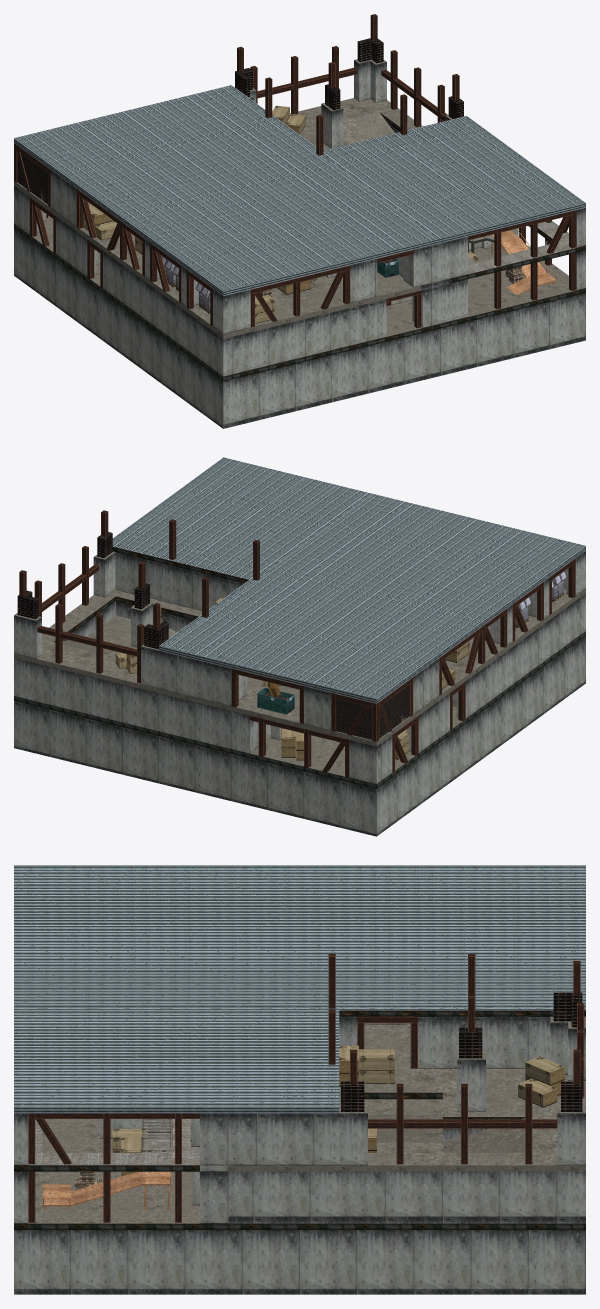
Rendered from cs16_vertigo.glb.
The picture shows the model from 3 angles, top to bottom: view 1: azimuth 30°, elevation 25°; view 2: azimuth 150°, elevation 25°; view 3: azimuth 270°, elevation 25°; orthographic projection. The views are drawn at different scales.
Visible parts, largest first — view 1: Vertigo; view 2: Vertigo; view 3: Vertigo.
Boxes of the visible parts, x1=… form: Vertigo: x1=14, y1=14, x2=585, y2=428; Vertigo: x1=14, y1=457, x2=585, y2=836; Vertigo: x1=14, y1=865, x2=585, y2=1294.
Bounding box in the file's own units: 64 × 29.6 × 64.
Materials: 41 (41 with a texture image).
